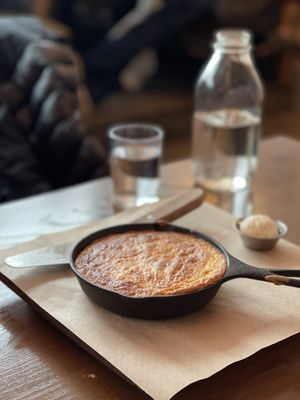pizza: (106, 122, 166, 207)
sushi: (68, 220, 300, 320), (235, 213, 287, 252)
